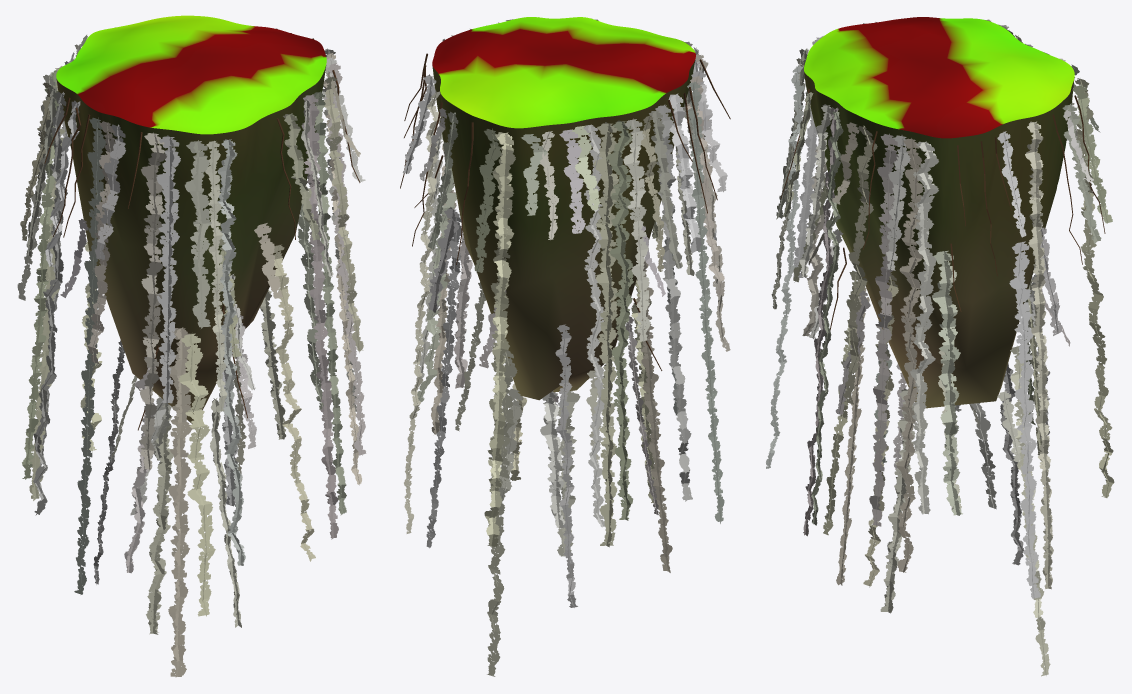
File: SM_H04_Floater06.fbx
3 views of the same model, side by side, from view 1: azimuth 30°, elevation 25°; view 2: azimuth 150°, elevation 25°; view 3: azimuth 270°, elevation 25° (orthographic). The views are drawn at different scales.
Visible parts, largest first — view 1: SM_H04_Floater06_Ivy, SM_H04_Floater06; view 2: SM_H04_Floater06_Ivy, SM_H04_Floater06; view 3: SM_H04_Floater06_Ivy, SM_H04_Floater06.
Part boxes in pixels (x1,y1,x2,y2): SM_H04_Floater06_Ivy: (17, 27, 366, 677); SM_H04_Floater06: (56, 15, 326, 423); SM_H04_Floater06_Ivy: (400, 18, 730, 676); SM_H04_Floater06: (432, 17, 695, 400); SM_H04_Floater06_Ivy: (766, 19, 1114, 676); SM_H04_Floater06: (804, 17, 1074, 408).
Size of the model in its own units: 19.92 by 37.82 by 20.06.
